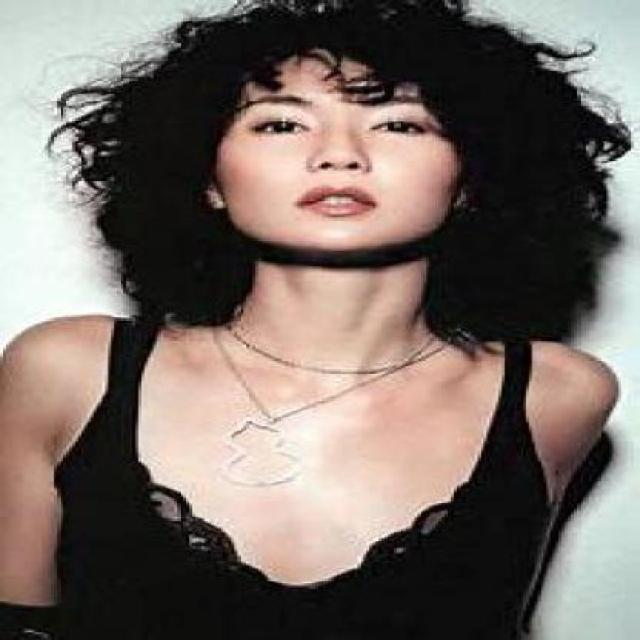Healthy: (241, 267, 429, 362)
